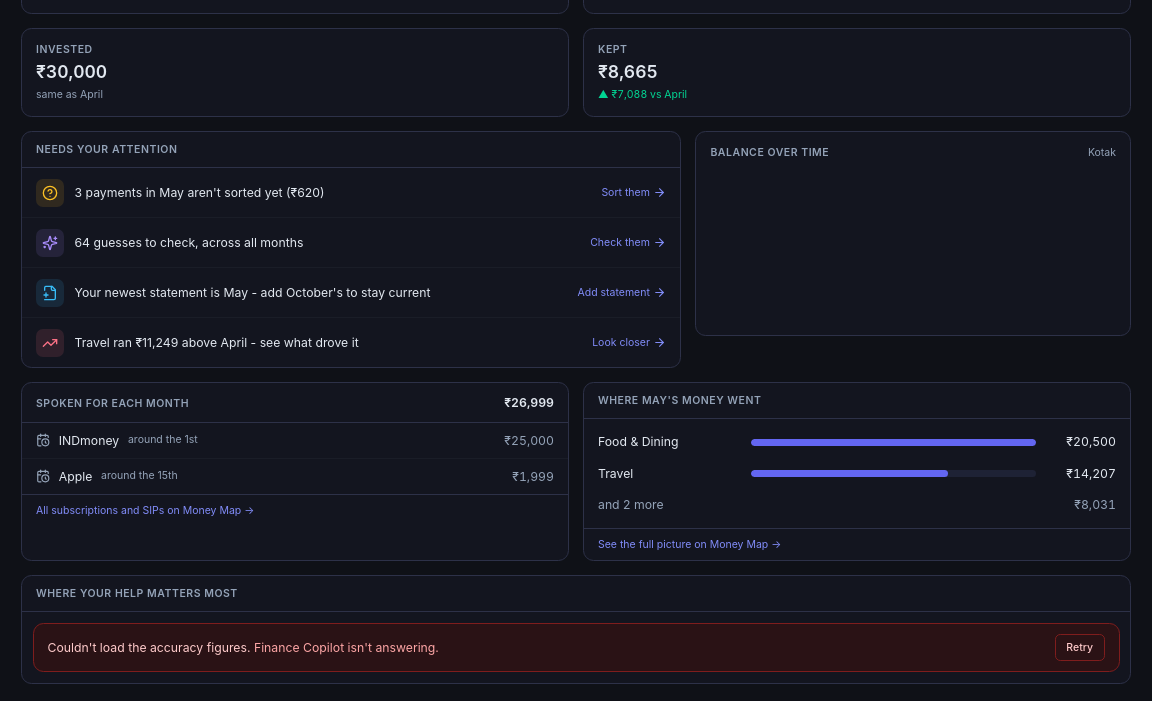
it: Dashboard when the API fails › shows a failed accuracy block in its own place while the rest stays
(page scrolled)
expect the message shows "Couldn't load the accuracy figures.": met, box x1=32 y1=623 x2=1120 y2=672
expect the text "Balance over time" is shown: met, box x1=710 y1=146 x2=829 y2=160
Step 1. Click the button "Retry" → point(1080, 648), box x1=1055 y1=634 x2=1104 y2=661
(page scrolled)
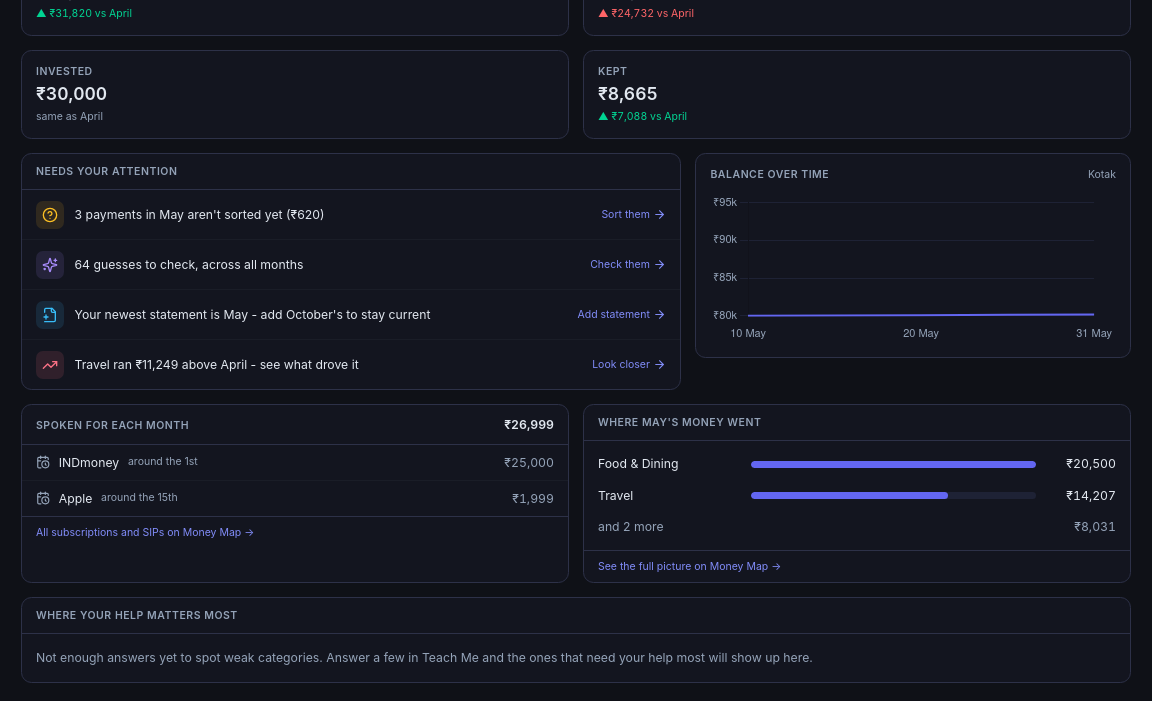
expect the text "Not enough answers yet" is shown: met, box x1=36 y1=650 x2=813 y2=665
